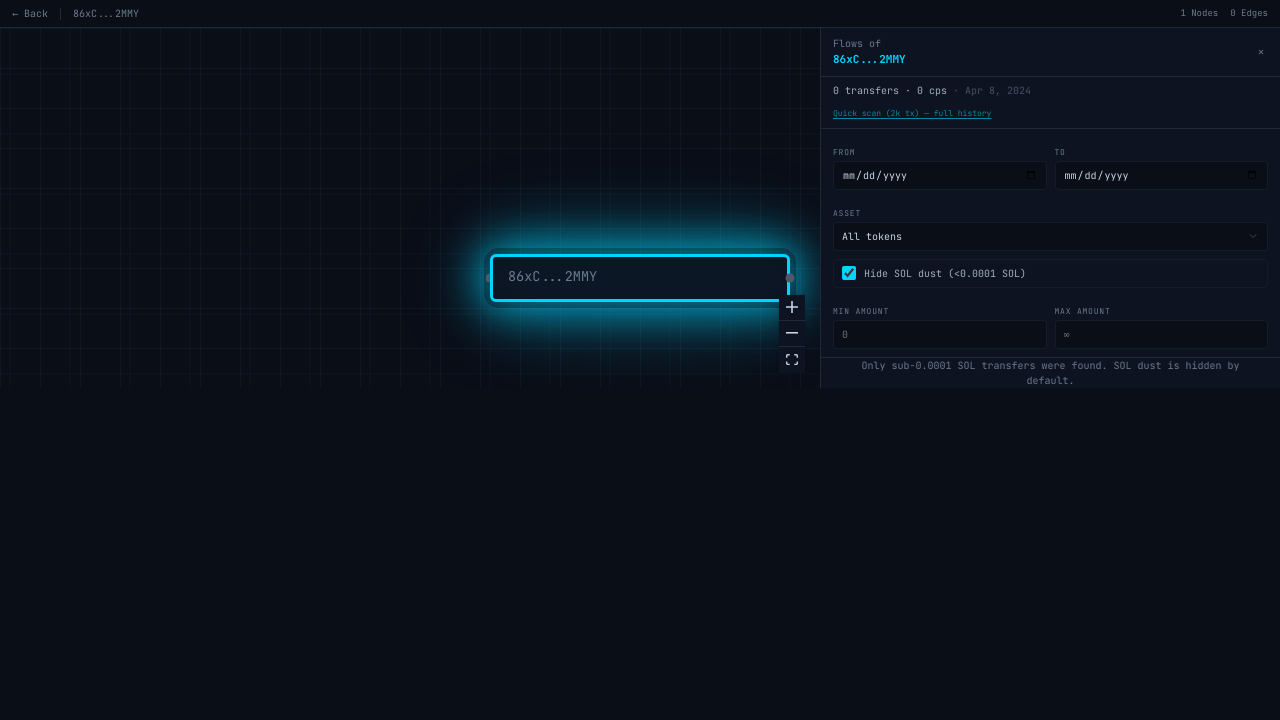
Test: TraceExplorer › hides SOL dust by default and lets the user reveal it
Expected: the text "1 active" is not shown
Click the checkbox labelled "Hide SOL dust (<0.0001 SOL)".
click(849, 273)  # box [842,266,856,280]
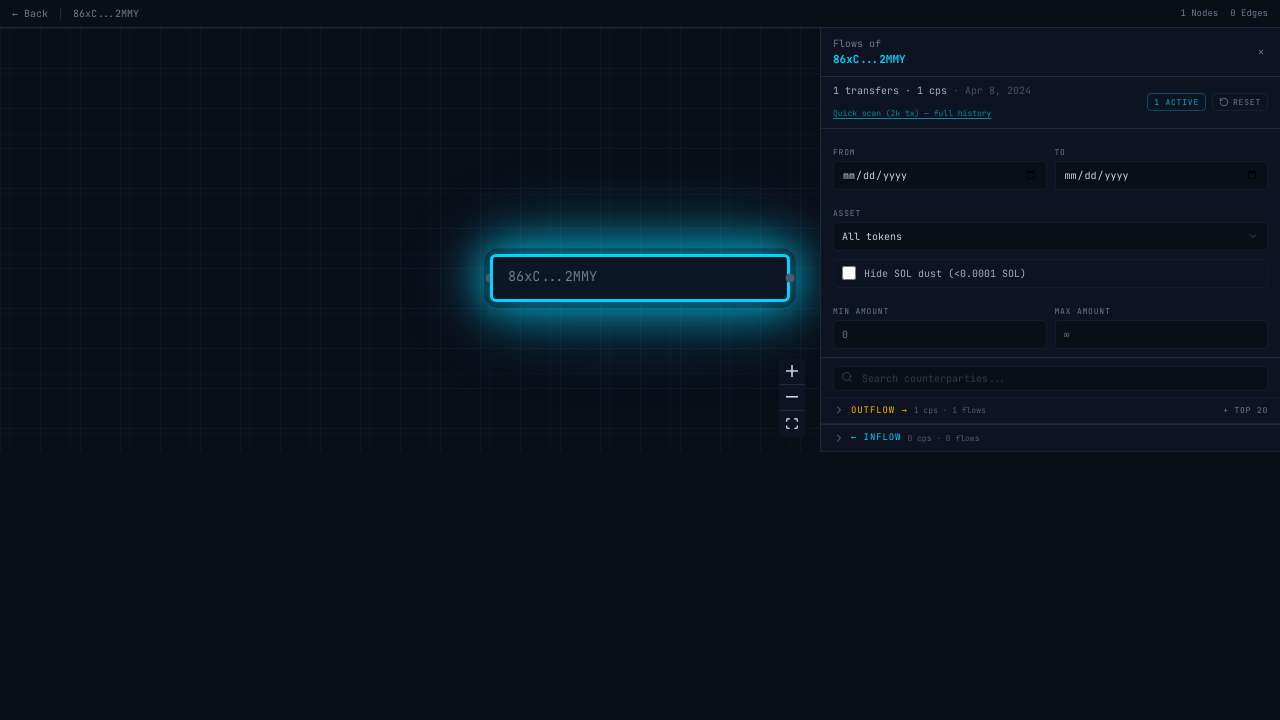
Click the text "Outflow →".
click(879, 410)  # box [851,404,908,417]
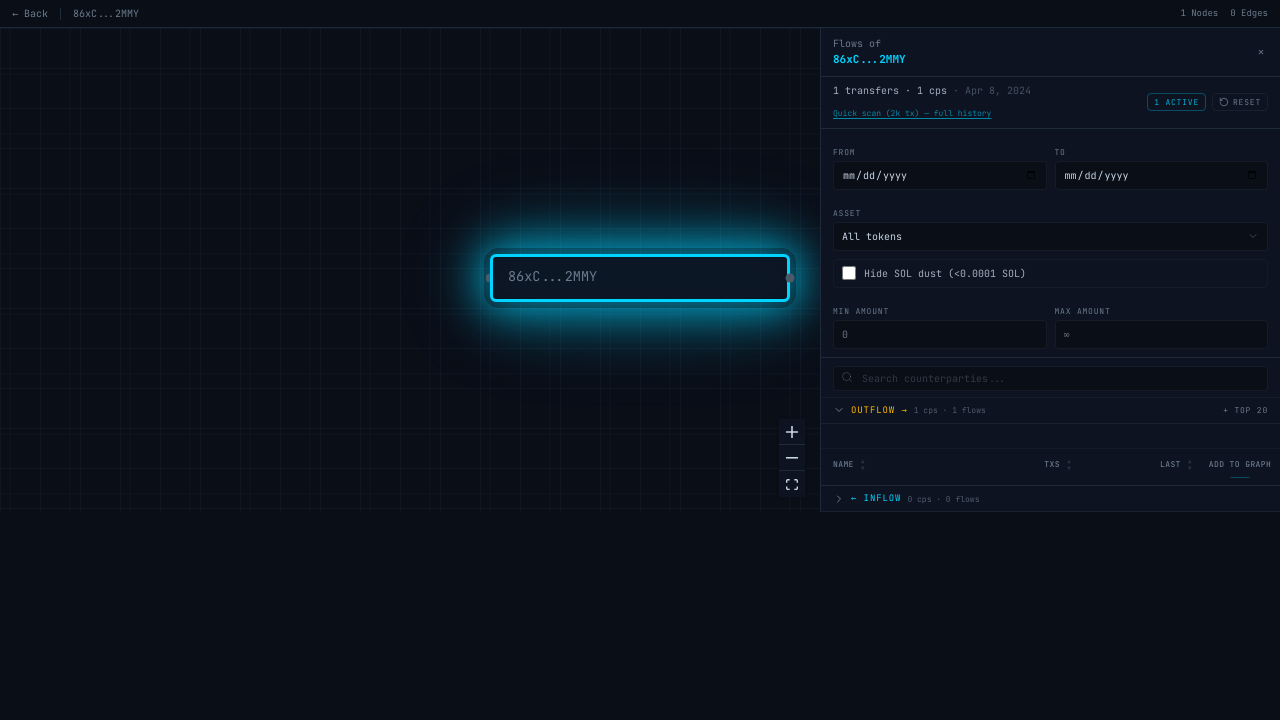
Expected: the text "1 active" is shown, [1147,93,1206,111]
Expected: the text "Dust Sender" is shown, [849,454,916,467]
